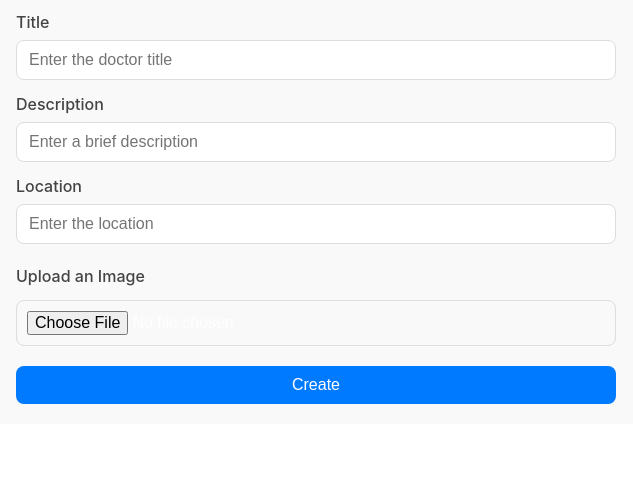
Test case: DoctorForm Component › should display validation errors if required fields are not filled
The width and height of the screenshot is (633, 502).
Submit the form without filling in any data
Click the button "Create": (316, 385) [16,366,616,404]
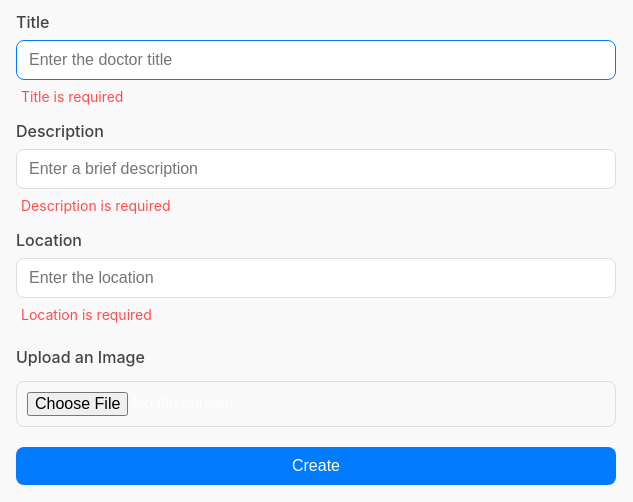
Result: the text "Title is required" is shown at [21,88,123,105]
Result: the text "Description is required" is shown at [21,197,170,214]
Result: the text "Location is required" is shown at [21,306,152,323]
